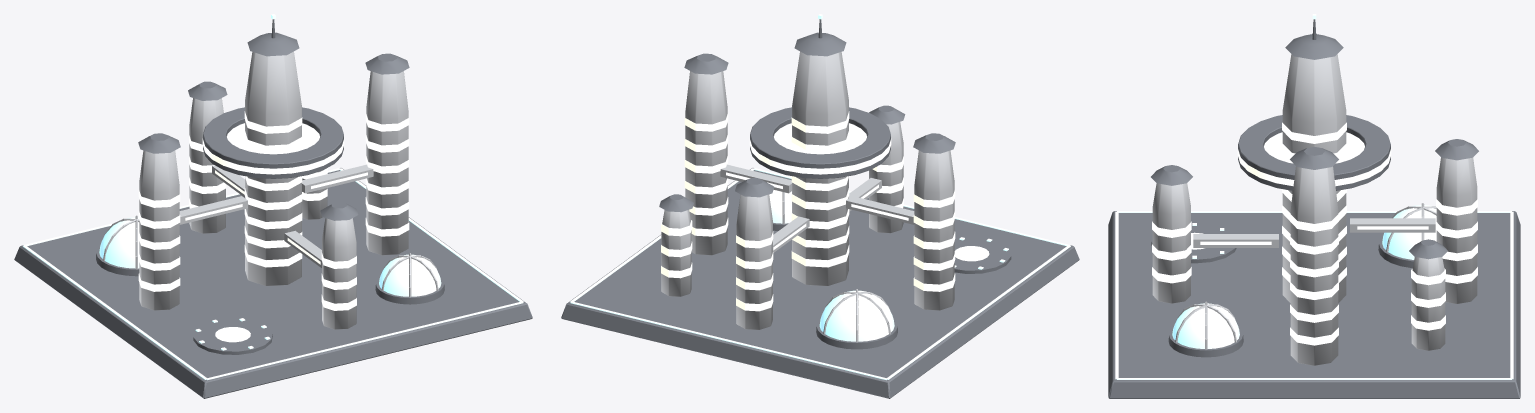
Rendered from city_b.glb.
The picture shows the model from 3 angles, left to right: view 1: azimuth 30°, elevation 25°; view 2: azimuth 150°, elevation 25°; view 3: azimuth 270°, elevation 25°; orthographic projection. The views are drawn at different scales.
Parts seen in each view (by area): view 1: CityB; view 2: CityB; view 3: CityB.
Boxes of the visible parts, x1,y1,x2,y2 form: CityB: [14, 14, 532, 398]; CityB: [561, 14, 1079, 398]; CityB: [1108, 14, 1520, 398].
Size of the model in its own units: 36.14 by 28.77 by 36.14.
